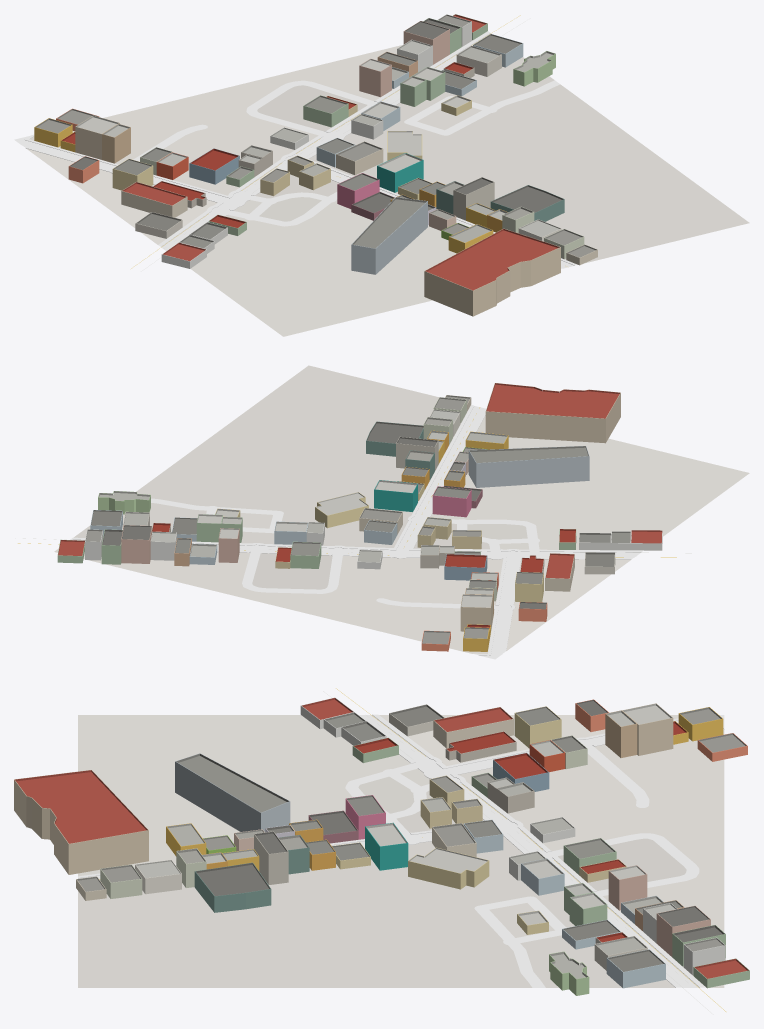
3 views of the same model, one above another, from view 1: azimuth 30°, elevation 25°; view 2: azimuth 150°, elevation 25°; view 3: azimuth 270°, elevation 25° (orthographic). The views are drawn at different scales.
Parts seen in each view (by area): view 1: ground, walls, roofs, asphalt, sidewalk; view 2: ground, walls, roofs, asphalt, sidewalk; view 3: ground, walls, roofs, asphalt, sidewalk.
Boxes of the visible parts, bbox=[...] form: ground: bbox=[26, 40, 749, 336]; walls: bbox=[34, 20, 597, 316]; roofs: bbox=[34, 14, 597, 290]; asphalt: bbox=[14, 33, 574, 268]; sidewalk: bbox=[22, 31, 577, 268]; ground: bbox=[54, 365, 749, 653]; walls: bbox=[57, 393, 662, 651]; roofs: bbox=[57, 383, 662, 644]; asphalt: bbox=[70, 406, 640, 659]; sidewalk: bbox=[71, 405, 643, 655]; ground: bbox=[78, 715, 724, 987]; walls: bbox=[14, 703, 749, 995]; roofs: bbox=[14, 697, 749, 979]; asphalt: bbox=[78, 715, 724, 987]; sidewalk: bbox=[78, 714, 724, 987].
Size of what is drawn, in the model's own units: 299 by 13.32 by 285.
